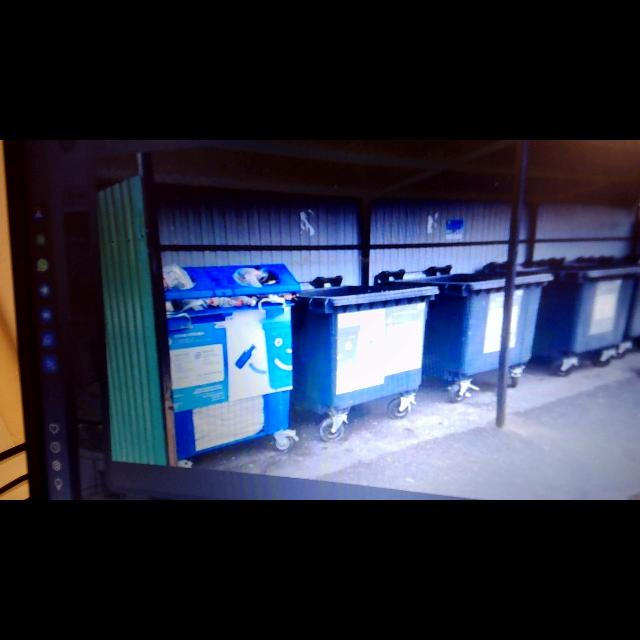Trash_Can_Empty: (291, 284, 438, 412), (390, 272, 553, 376), (517, 261, 639, 355)
Trash_Can_Full: (161, 263, 301, 460)
